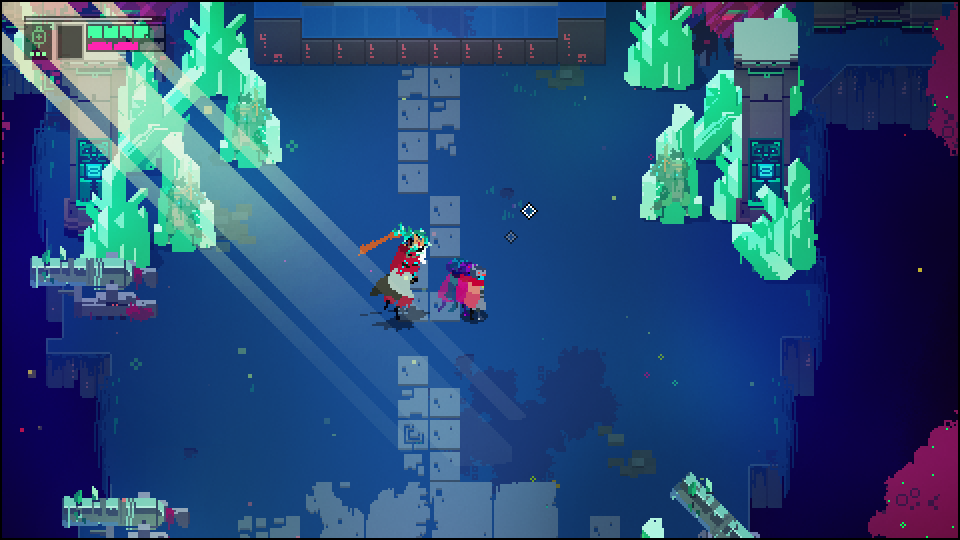hanged_man: (357, 231, 429, 320)
player: (465, 264, 491, 321)
